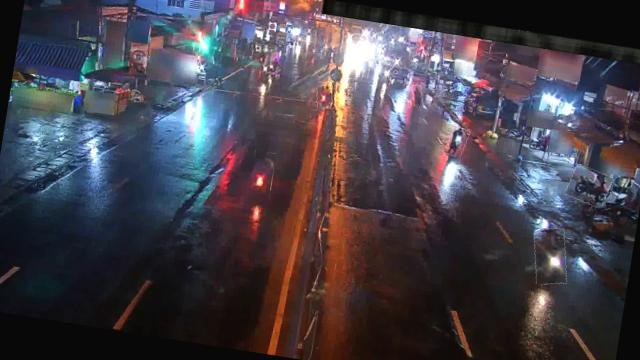Bike: (528, 225, 572, 287), (565, 165, 612, 208), (248, 150, 276, 200), (446, 124, 469, 158), (314, 80, 337, 110), (410, 84, 424, 106)
